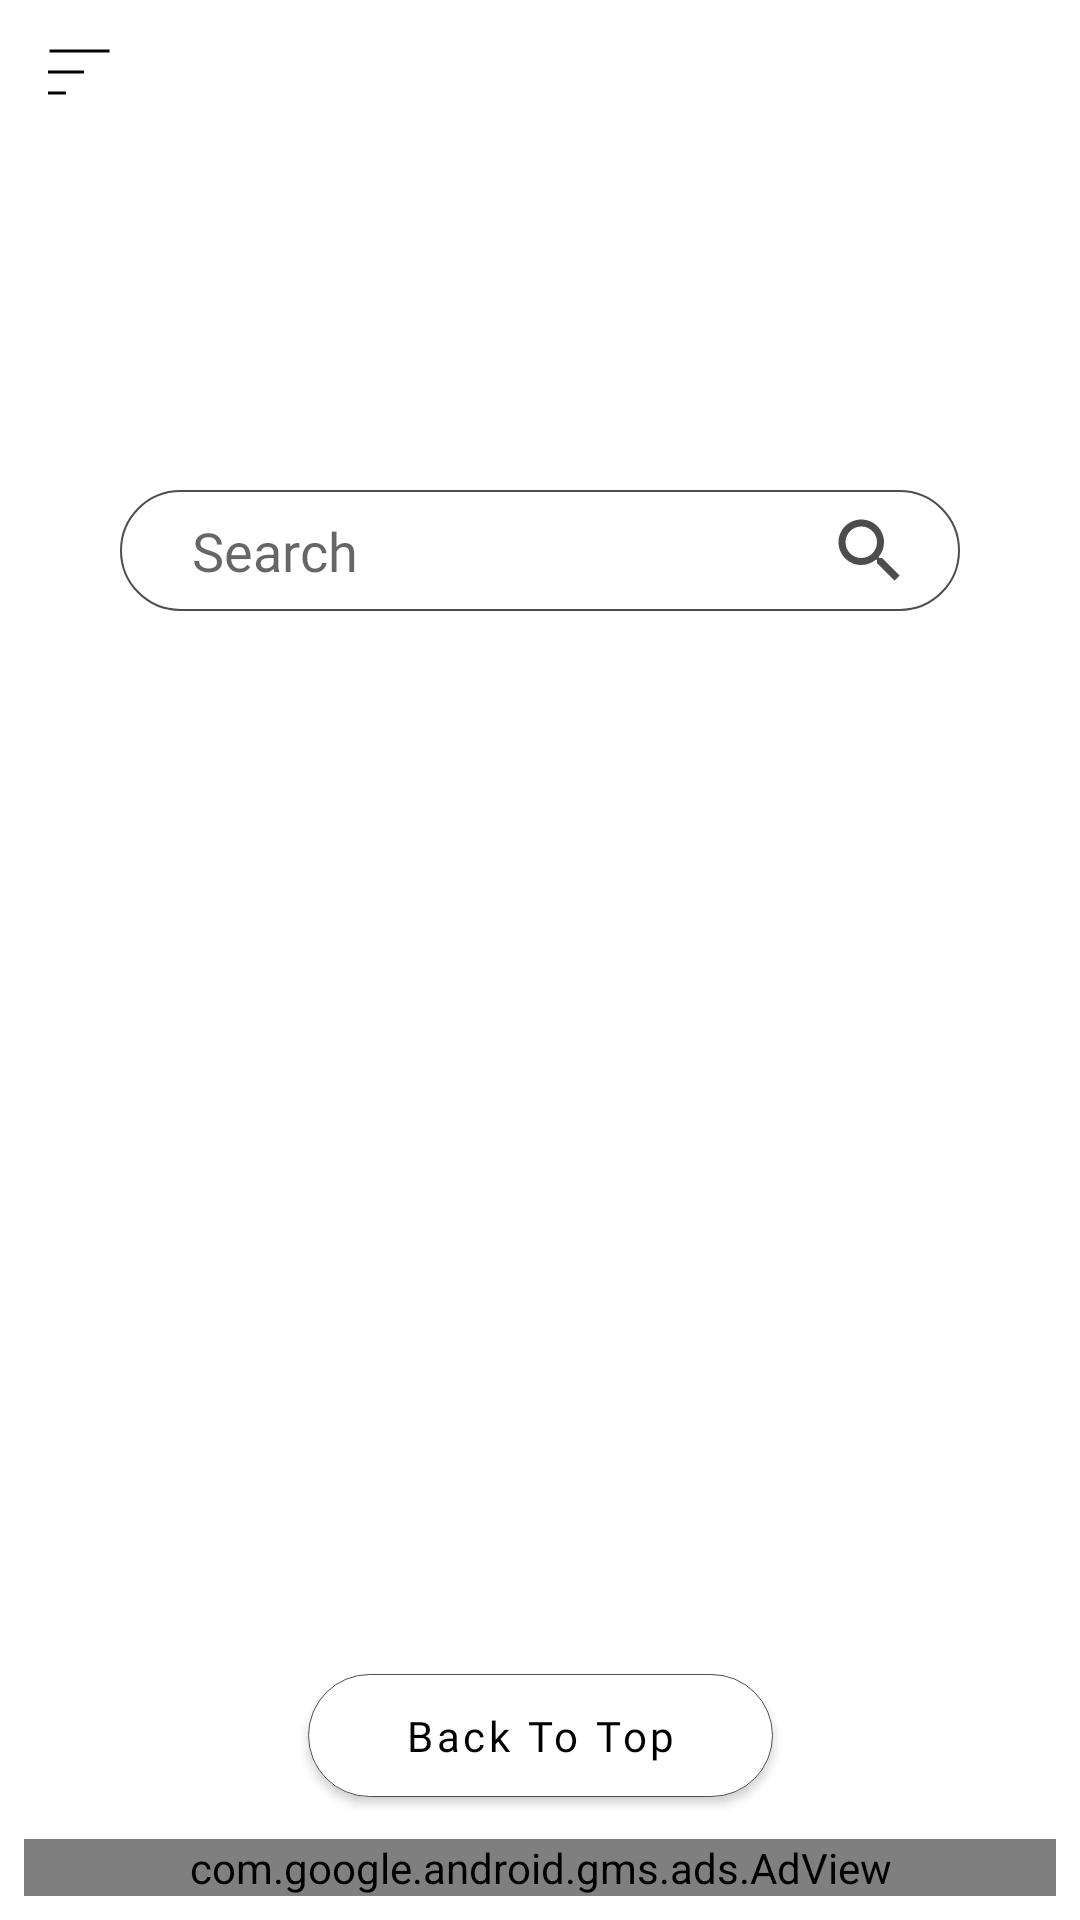

Named icons in this screenshot (1080 x 1920) and their bounding boxes, bbox=(x1, y1, x2, y2):
menu: bbox=(48, 49, 110, 95)
